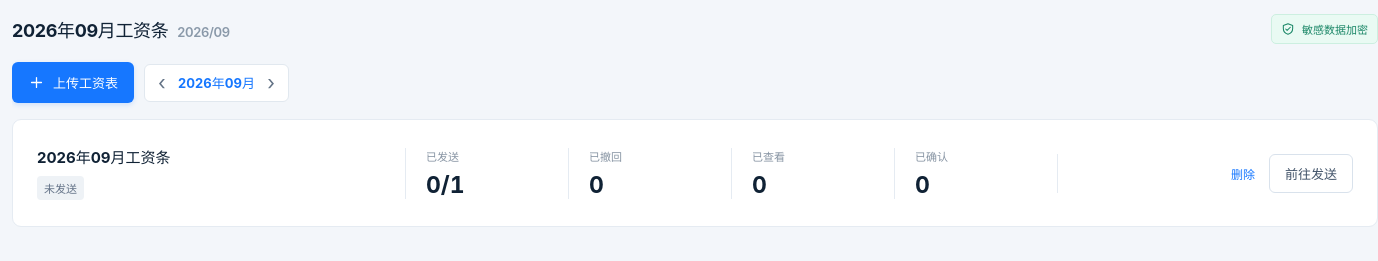
salary management › labels the per-employee action as a work notification send without DING
Click the button "前往发送" at {"x": 1311, "y": 173}, box [1269,154,1353,192]
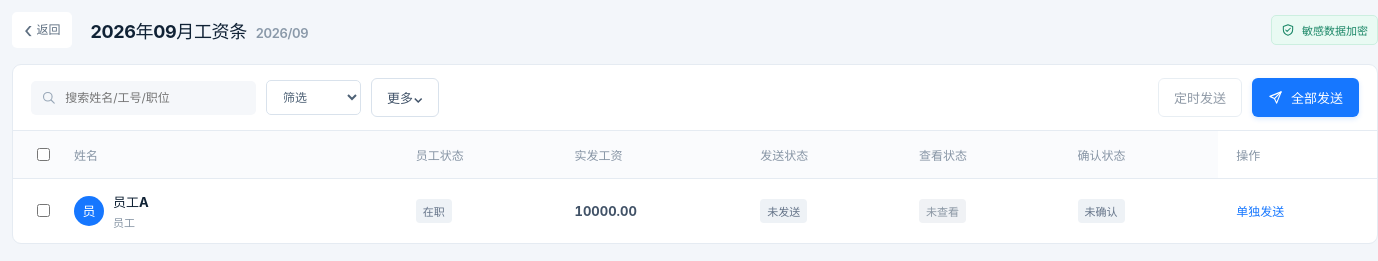
Expected: the button "单独发送" is shown, [1236,200,1284,221]
